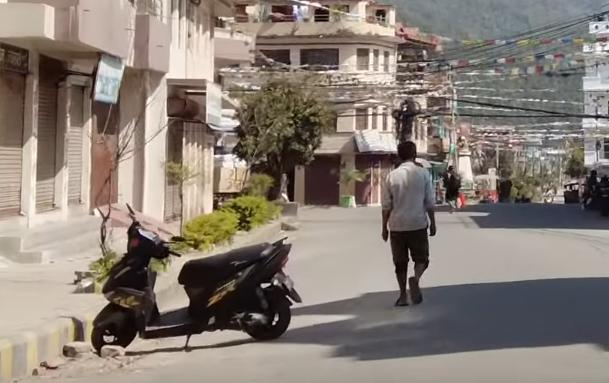scooter: (89, 203, 308, 356)
